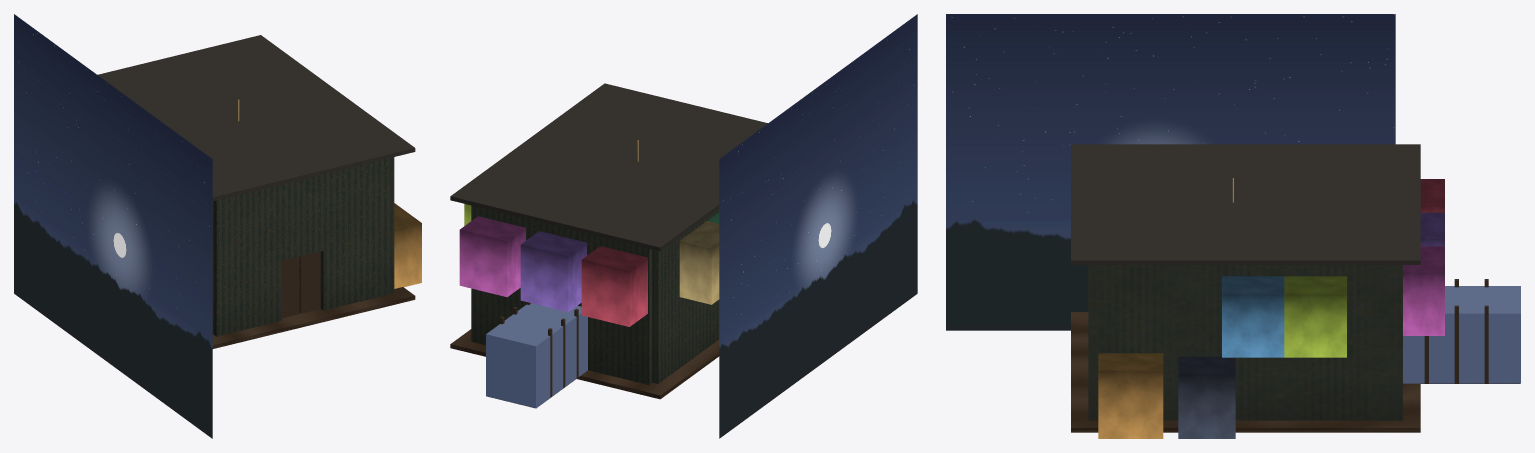
The model's file is foyer-web.glb.
3 views of the same model, side by side, from view 1: azimuth 30°, elevation 25°; view 2: azimuth 150°, elevation 25°; view 3: azimuth 270°, elevation 25° (orthographic). The views are drawn at different scales.
Parts seen in each view (by area): view 1: Foy_Backdrop, Foy_Ceiling, Foy_Wall_FrontL, Foy_Wall_FrontR, Foy_Wall_FrontTop, Foy_Floor, PRT_P02_Room, Front_Door_R, Front_Door_L, Foy_Wall_Right; view 2: Foy_Backdrop, Foy_Ceiling, GLOW_HallBox, Foy_Wall_Left_B, Foy_Wall_RearL, PRT_P04_Room, PRT_P06_Room, PRT_P05_Room, PRT_P08_Room, Foy_Floor, Foy_Wall_RearR, GLOW_HallRibs (+2 smaller); view 3: Foy_Backdrop, Foy_Ceiling, Foy_Wall_Right, GLOW_HallBox, PRT_P02_Room, Foy_Floor, PRT_P09_Room, PRT_P10_Room, PRT_P03_Room, PRT_P06_Room, GLOW_HallRibs, PRT_P05_Room (+1 smaller).
Boxes of the visible parts, left/top/right/bottom form: Foy_Backdrop: left=14, top=14, right=212, bottom=438; Foy_Ceiling: left=97, top=35, right=415, bottom=200; Foy_Wall_FrontL: left=213, top=184, right=281, bottom=336; Foy_Wall_FrontR: left=320, top=158, right=388, bottom=310; Foy_Wall_FrontTop: left=281, top=174, right=323, bottom=260; Foy_Floor: left=212, top=272, right=415, bottom=348; PRT_P02_Room: left=394, top=203, right=421, bottom=288; Front_Door_R: left=299, top=251, right=320, bottom=313; Front_Door_L: left=281, top=256, right=299, bottom=318; Foy_Wall_Right: left=388, top=157, right=394, bottom=294; Foy_Backdrop: left=719, top=14, right=917, bottom=438; Foy_Ceiling: left=450, top=83, right=767, bottom=251; GLOW_HallBox: left=486, top=303, right=587, bottom=408; Foy_Wall_Left_B: left=652, top=209, right=719, bottom=383; Foy_Wall_RearL: left=588, top=234, right=652, bottom=384; PRT_P04_Room: left=581, top=246, right=647, bottom=326; PRT_P06_Room: left=459, top=216, right=525, bottom=297; PRT_P05_Room: left=520, top=231, right=586, bottom=311; PRT_P08_Room: left=679, top=221, right=719, bottom=304; Foy_Floor: left=450, top=329, right=719, bottom=399; Foy_Wall_RearR: left=477, top=207, right=538, bottom=345; GLOW_HallRibs: left=500, top=302, right=578, bottom=397; Foy_Backdrop: left=946, top=14, right=1395, bottom=330; Foy_Ceiling: left=1071, top=144, right=1420, bottom=264; Foy_Wall_Right: left=1088, top=265, right=1402, bottom=420; GLOW_HallBox: left=1403, top=286, right=1520, bottom=383; PRT_P02_Room: left=1098, top=353, right=1163, bottom=438; Foy_Floor: left=1071, top=312, right=1420, bottom=432; PRT_P09_Room: left=1222, top=276, right=1284, bottom=357; PRT_P10_Room: left=1284, top=276, right=1346, bottom=357; PRT_P03_Room: left=1178, top=356, right=1235, bottom=438; PRT_P06_Room: left=1403, top=246, right=1444, bottom=335; GLOW_HallRibs: left=1424, top=279, right=1488, bottom=383; PRT_P05_Room: left=1420, top=212, right=1444, bottom=246.
Size of the model in its own units: 14.48 by 14 by 23.02.
65 materials, 40 textured.
